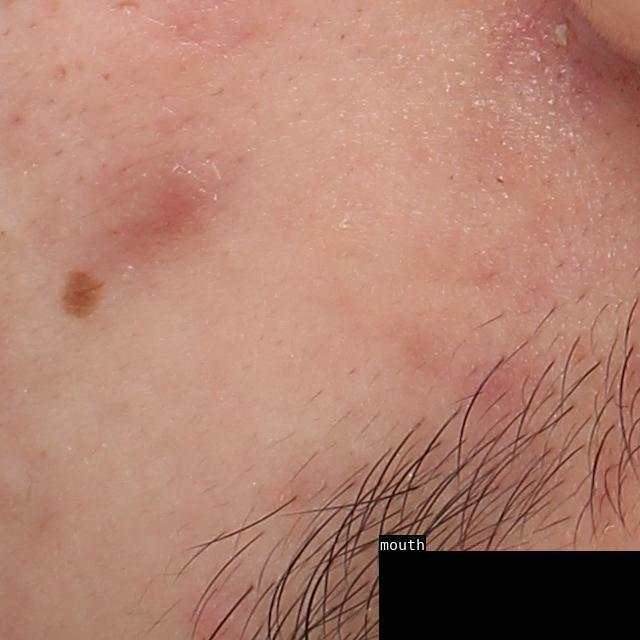nevus: (58, 266, 108, 322)
pustule: (547, 21, 571, 52)
